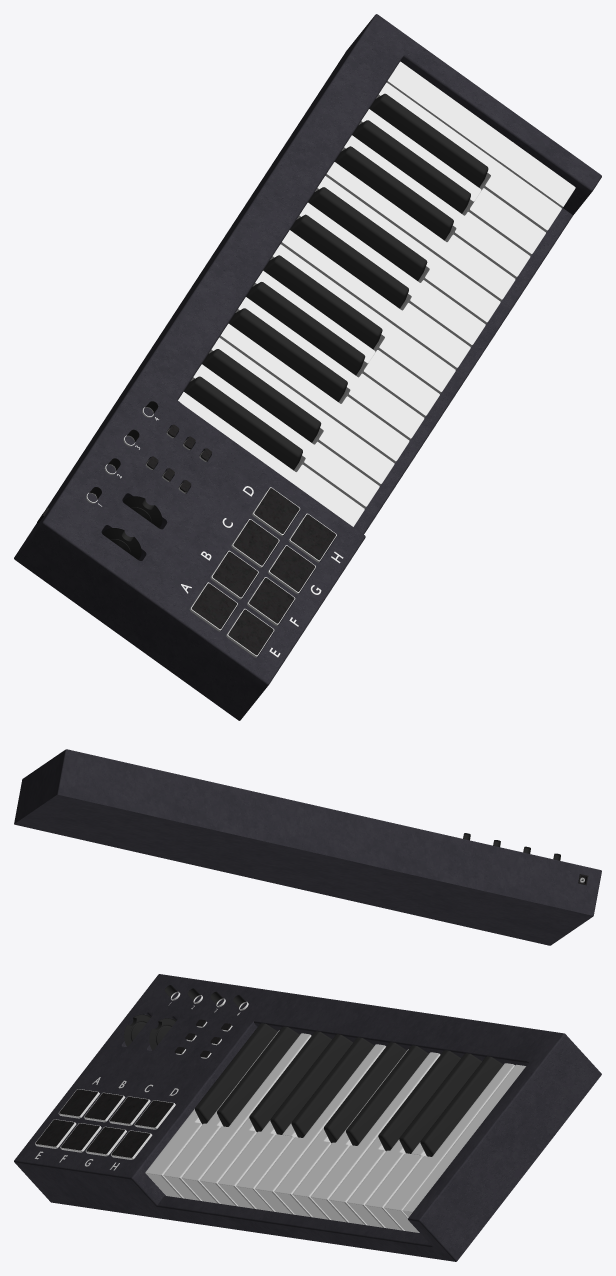
Rendered from midi.glb.
3 renders of one model, top to bottom at view 1: azimuth 30°, elevation 25°; view 2: azimuth 150°, elevation 25°; view 3: azimuth 270°, elevation 25°, orthographic. The views are drawn at different scales.
Visible parts, largest first — view 1: base, keys, keysBlack, buttons, buttons2; view 2: base; view 3: base, keys, keysBlack, buttons, buttons2.
Boxes of the visible parts, <box> form: base: <box>14,14,601,720</box>; keys: <box>178,61,575,657</box>; keysBlack: <box>89,93,488,559</box>; buttons: <box>37,424,335,655</box>; buttons2: <box>86,407,336,657</box>; base: <box>14,749,601,945</box>; base: <box>14,974,601,1261</box>; keys: <box>35,1030,525,1232</box>; keysBlack: <box>124,985,503,1156</box>; buttons: <box>35,1019,231,1157</box>; buttons2: <box>35,991,248,1159</box>.
Size of the model in its own units: 0.7474 by 0.3951 by 0.595.
6 materials, 2 textured.
